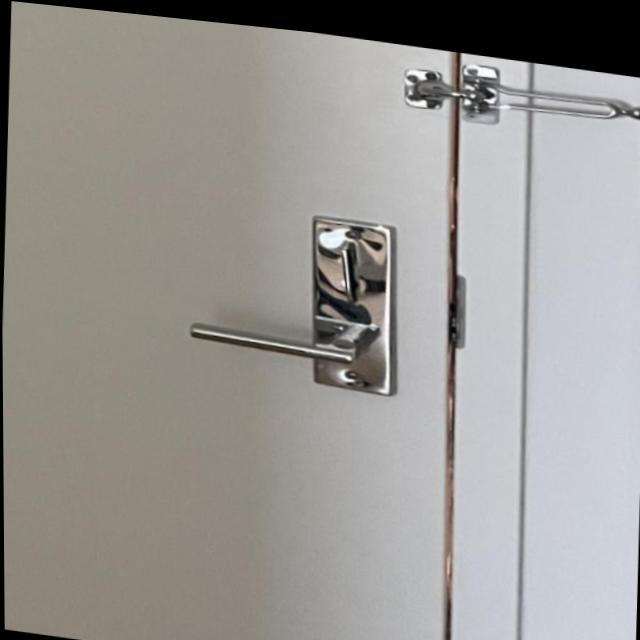door_handle: (162, 282, 408, 395)
